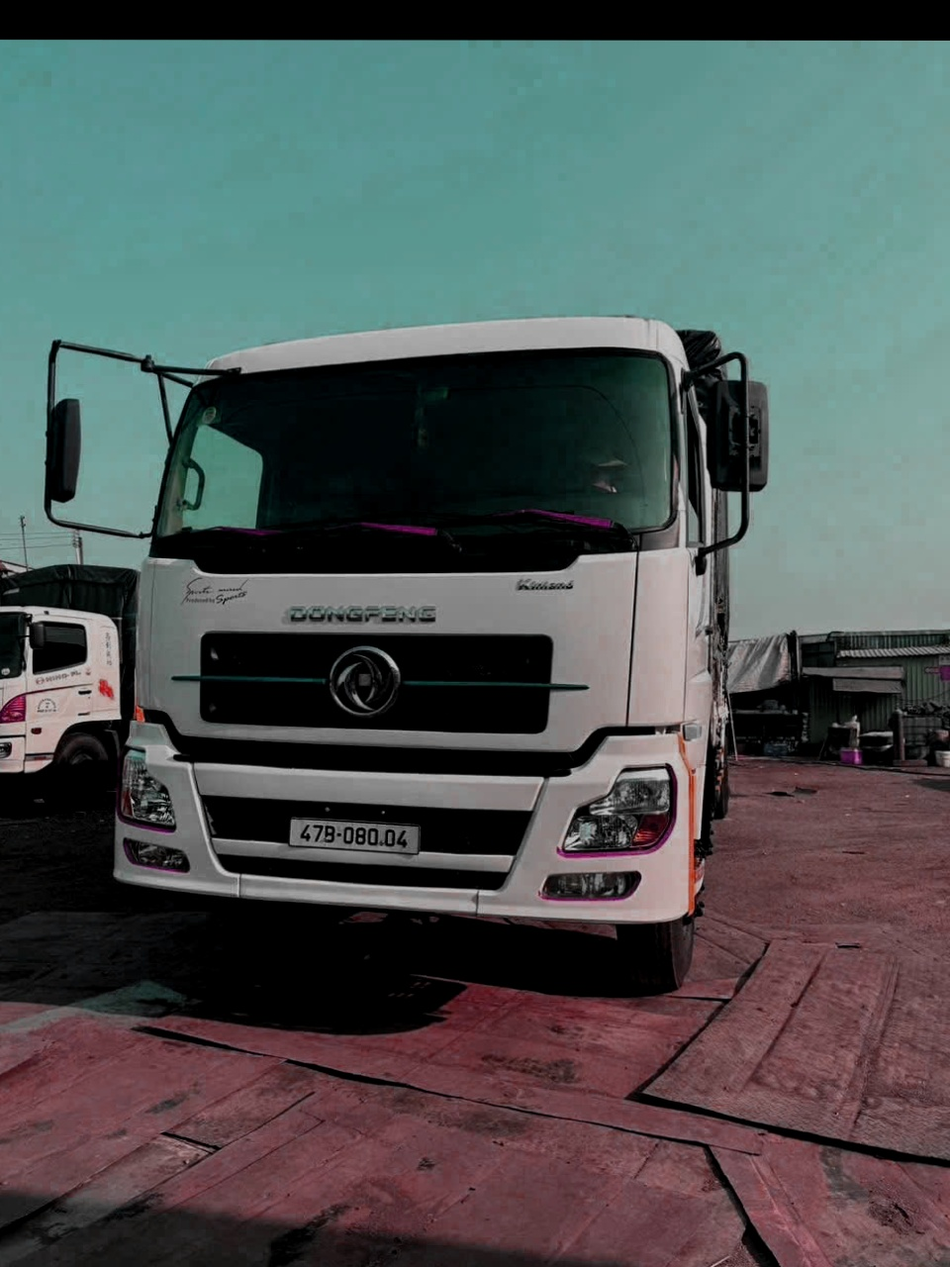Bien-so: (289, 813, 427, 858)
